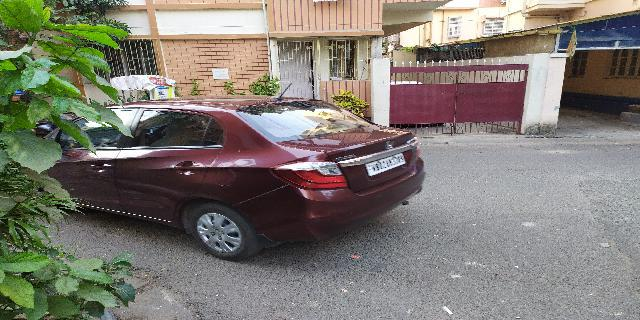Car: (25, 90, 431, 264)
